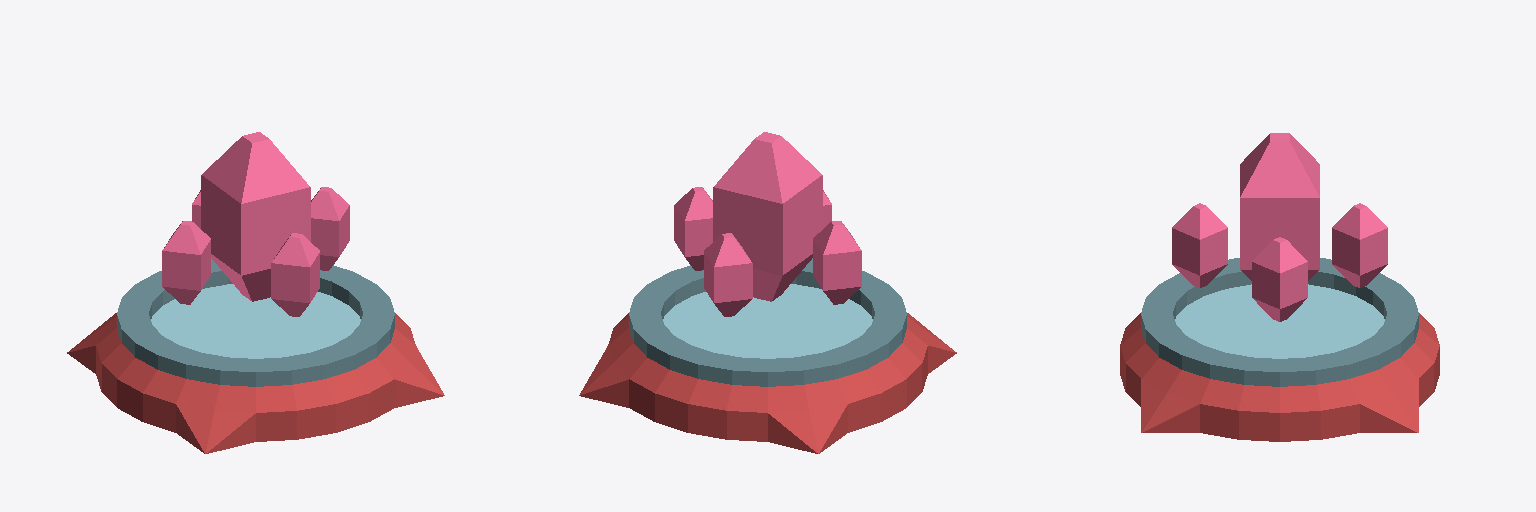
File: Burn_Turret.obj
The picture shows the model from 3 angles: view 1: azimuth 30°, elevation 25°; view 2: azimuth 150°, elevation 25°; view 3: azimuth 270°, elevation 25°; orthographic projection.
Parts seen in each view (by area): view 1: Burn_Turret; view 2: Burn_Turret; view 3: Burn_Turret.
Boxes of the visible parts, x1,y1,x2,y2 form: Burn_Turret: [67, 132, 444, 453]; Burn_Turret: [579, 132, 956, 453]; Burn_Turret: [1120, 133, 1439, 441].
Size of the model in its own units: 1 by 0.8175 by 1.